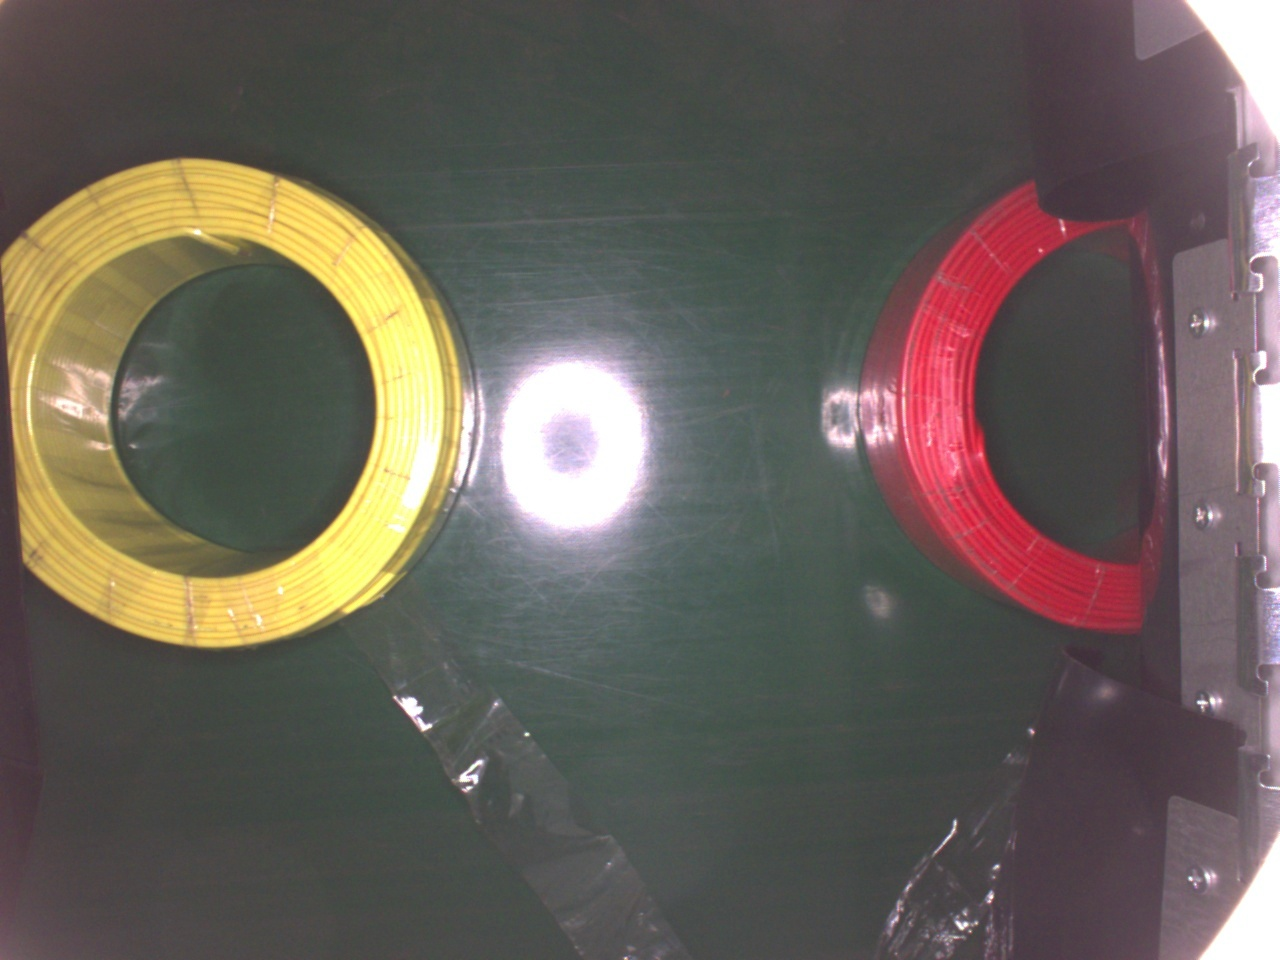red: (859, 177, 1154, 634)
yellow: (1, 156, 479, 653)
